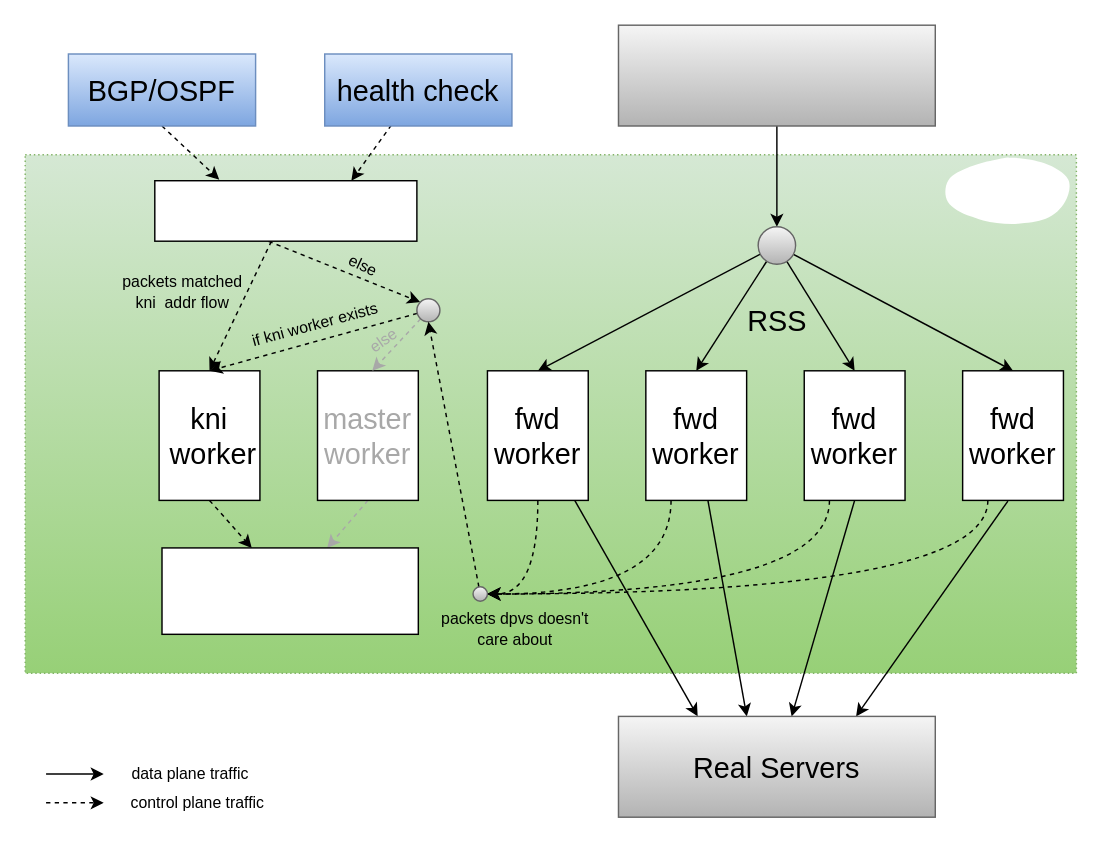
Some shapes in this 1102 by 842 pixel diagram are drawn without their labels. The centre of each missing label's shape, as x and y in pixels:
Control Plane: the point at 285,210
DPVS: the point at 1007,191
KNI Interface: the point at 289,590
Users: the point at 776,75
